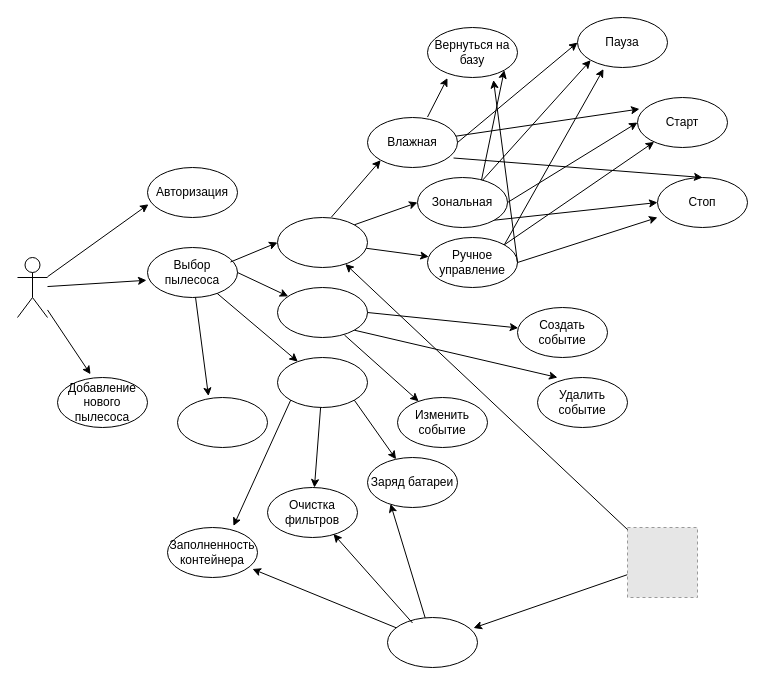
Some shapes in this 765 by 685 pixel diagram are drawn without their labels. Grey dashed boxes stand in for pictures. Here are the shapes that lost their labels. From the top down, the centre of each, then its label:
At point (322, 242): "Уборка".
At point (32, 287): "User".
At point (322, 312): "Расписание".
At point (322, 382): "Обслуживание".
At point (222, 422): "Удаление пылесоса".
At point (432, 642): "Оповещение".
